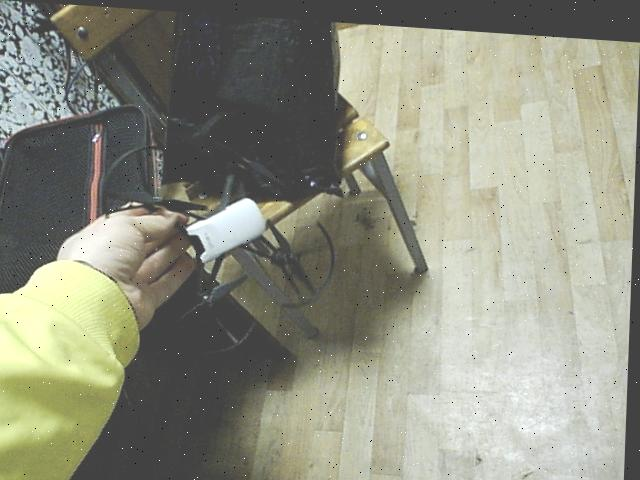drone: (100, 126, 354, 345)
